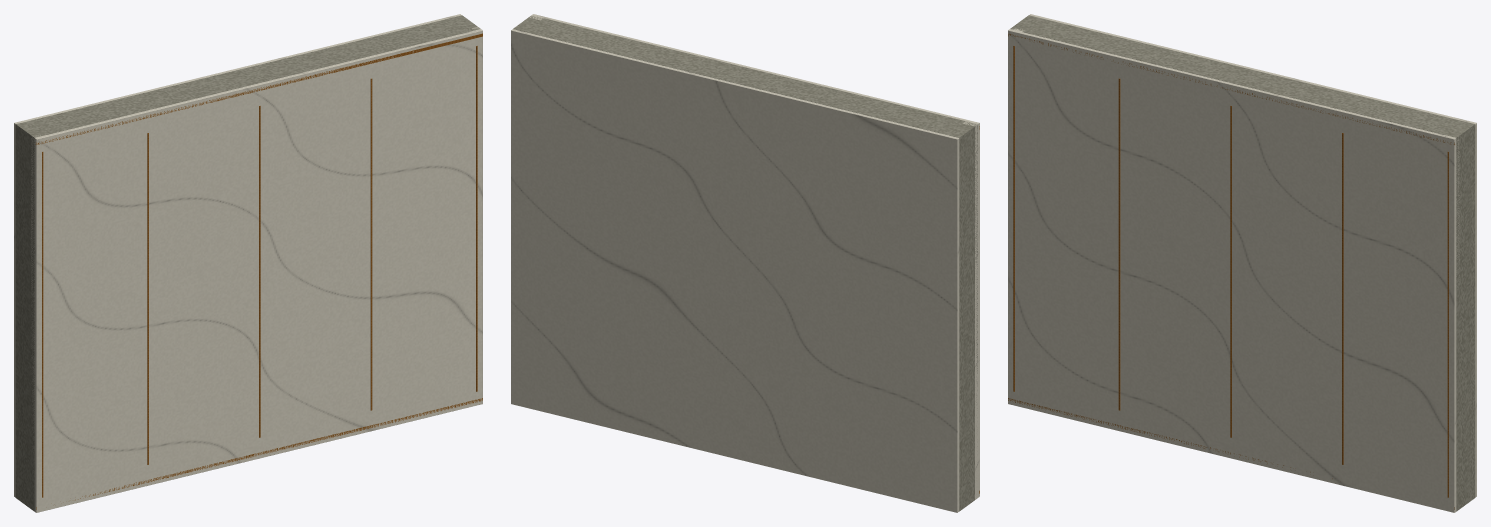
3 renders of one model, left to right at view 1: azimuth 30°, elevation 25°; view 2: azimuth 150°, elevation 25°; view 3: azimuth 330°, elevation 25°, orthographic.
Parts seen in each view (by area): view 1: Replaceable marble facing panel, Bearing masonry wall segment, Replaceable marble facing panel.001, Continuous bronze wall seat.001, Continuous bronze wall seat, Shallow vertical facing relief.002, Fluted edge pilaster, Bronze edge relief, Bronze edge relief.001, Shallow vertical facing relief, Shallow vertical facing relief.001; view 2: Replaceable marble facing panel.001, Bearing masonry wall segment, Fluted edge pilaster, Replaceable marble facing panel; view 3: Replaceable marble facing panel, Bearing masonry wall segment, Replaceable marble facing panel.001, Shallow vertical facing relief, Bronze edge relief, Bronze edge relief.001, Shallow vertical facing relief.001, Shallow vertical facing relief.002.
Part boxes in pixels (bbox=[...]): Replaceable marble facing panel: bbox=[34, 30, 482, 512]; Bearing masonry wall segment: bbox=[15, 15, 480, 511]; Replaceable marble facing panel.001: bbox=[14, 14, 461, 497]; Continuous bronze wall seat.001: bbox=[35, 33, 482, 144]; Continuous bronze wall seat: bbox=[36, 398, 482, 509]; Shallow vertical facing relief.002: bbox=[370, 78, 372, 410]; Fluted edge pilaster: bbox=[31, 135, 47, 512]; Bronze edge relief: bbox=[42, 152, 43, 497]; Bronze edge relief.001: bbox=[476, 46, 477, 391]; Shallow vertical facing relief: bbox=[147, 133, 148, 464]; Shallow vertical facing relief.001: bbox=[259, 106, 260, 437]; Replaceable marble facing panel.001: bbox=[511, 29, 959, 512]; Bearing masonry wall segment: bbox=[513, 15, 977, 511]; Fluted edge pilaster: bbox=[963, 120, 979, 499]; Replaceable marble facing panel: bbox=[533, 14, 979, 496]; Replaceable marble facing panel: bbox=[1008, 29, 1456, 512]; Bearing masonry wall segment: bbox=[1010, 15, 1475, 511]; Replaceable marble facing panel.001: bbox=[1029, 14, 1476, 497]; Shallow vertical facing relief: bbox=[1118, 78, 1120, 410]; Bronze edge relief: bbox=[1013, 46, 1014, 391]; Bronze edge relief.001: bbox=[1447, 152, 1448, 497]; Shallow vertical facing relief.001: bbox=[1230, 106, 1231, 437]; Shallow vertical facing relief.002: bbox=[1342, 133, 1343, 464].
Size of the model in its own units: 4 by 3.2 by 0.354.
Materials: 3 (3 with a texture image).
